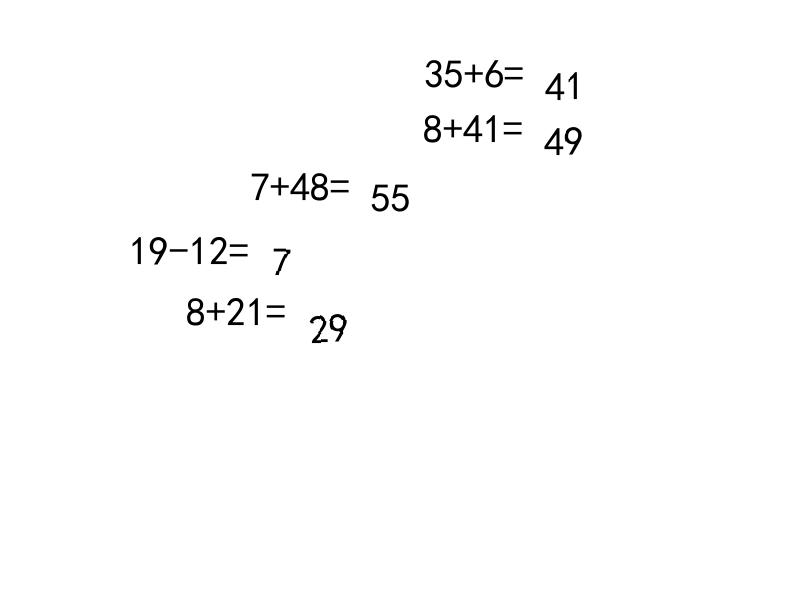+: (464, 53, 484, 82), (206, 291, 226, 320), (443, 108, 463, 136), (270, 166, 290, 194)
-: (169, 230, 189, 259)
1: (554, 53, 574, 82), (129, 230, 149, 259), (189, 230, 209, 259), (246, 291, 266, 320), (483, 108, 503, 136)
2: (209, 230, 229, 259), (226, 291, 246, 320), (296, 291, 316, 320)
3: (424, 53, 444, 82)
4: (534, 53, 554, 82), (463, 108, 483, 136), (533, 108, 553, 136), (290, 166, 310, 194)
5: (444, 53, 464, 82), (360, 166, 380, 194), (380, 166, 400, 194)
6: (484, 53, 504, 82)
7: (259, 230, 279, 259), (250, 166, 270, 194)
8: (186, 291, 206, 320), (423, 108, 443, 136), (310, 166, 330, 194)
9: (149, 230, 169, 259), (316, 291, 336, 320), (553, 108, 573, 136)
=: (504, 53, 524, 82), (229, 230, 249, 259), (266, 291, 286, 320), (503, 108, 523, 136), (330, 166, 350, 194)
